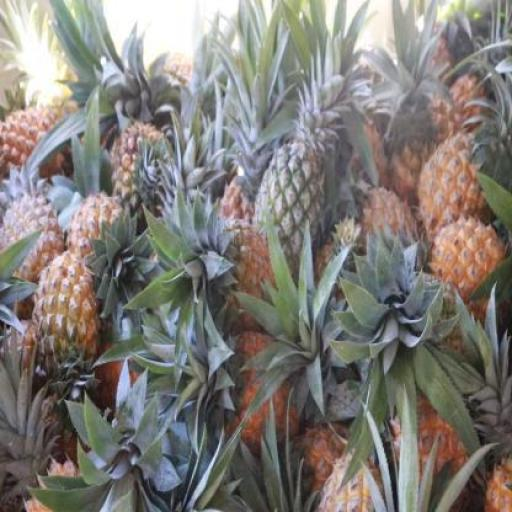Pineapple - v8 v1: (34, 255, 95, 380), (420, 133, 490, 235), (430, 222, 502, 311)
